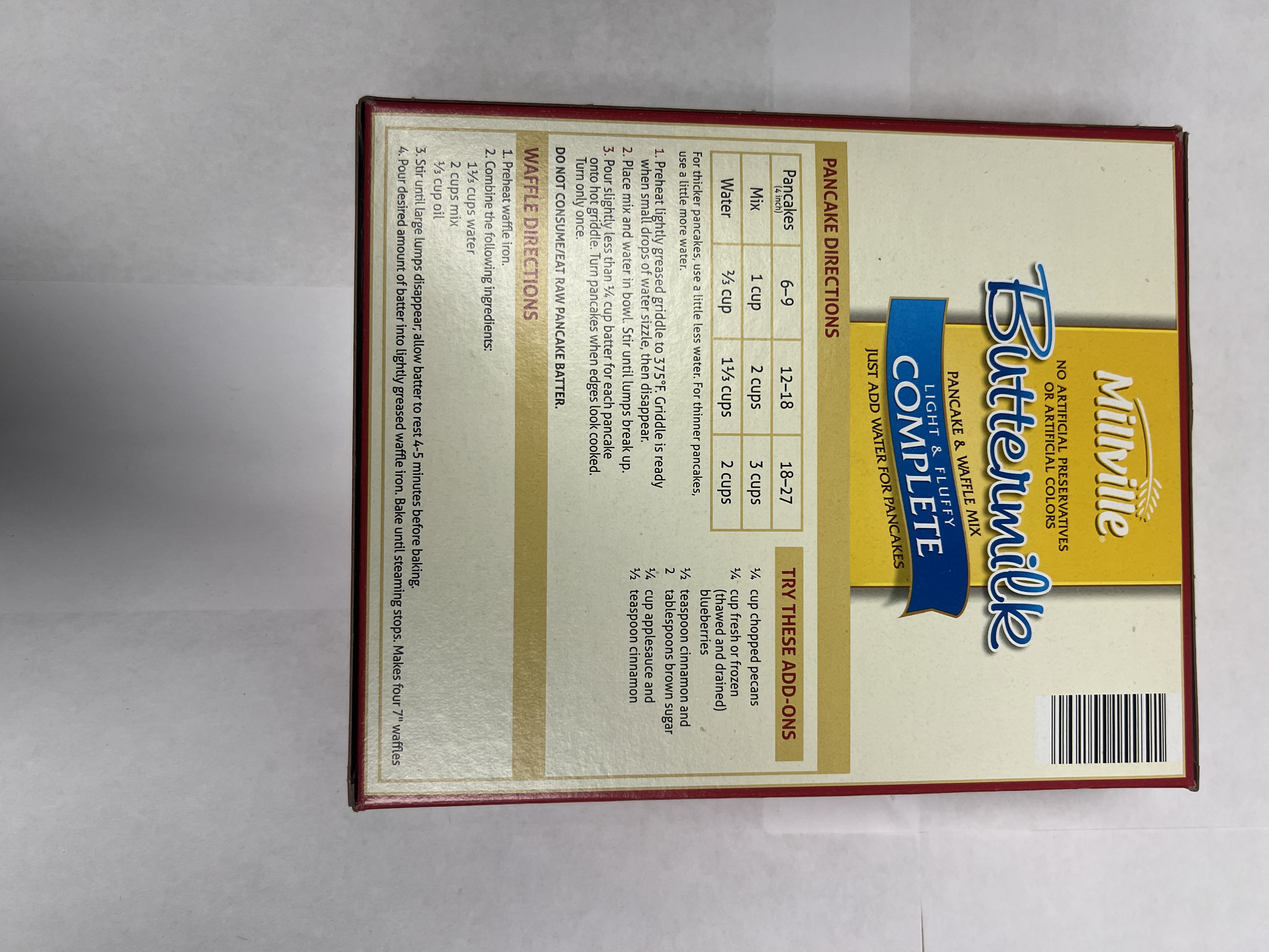packaged: (340, 92, 1212, 810)
